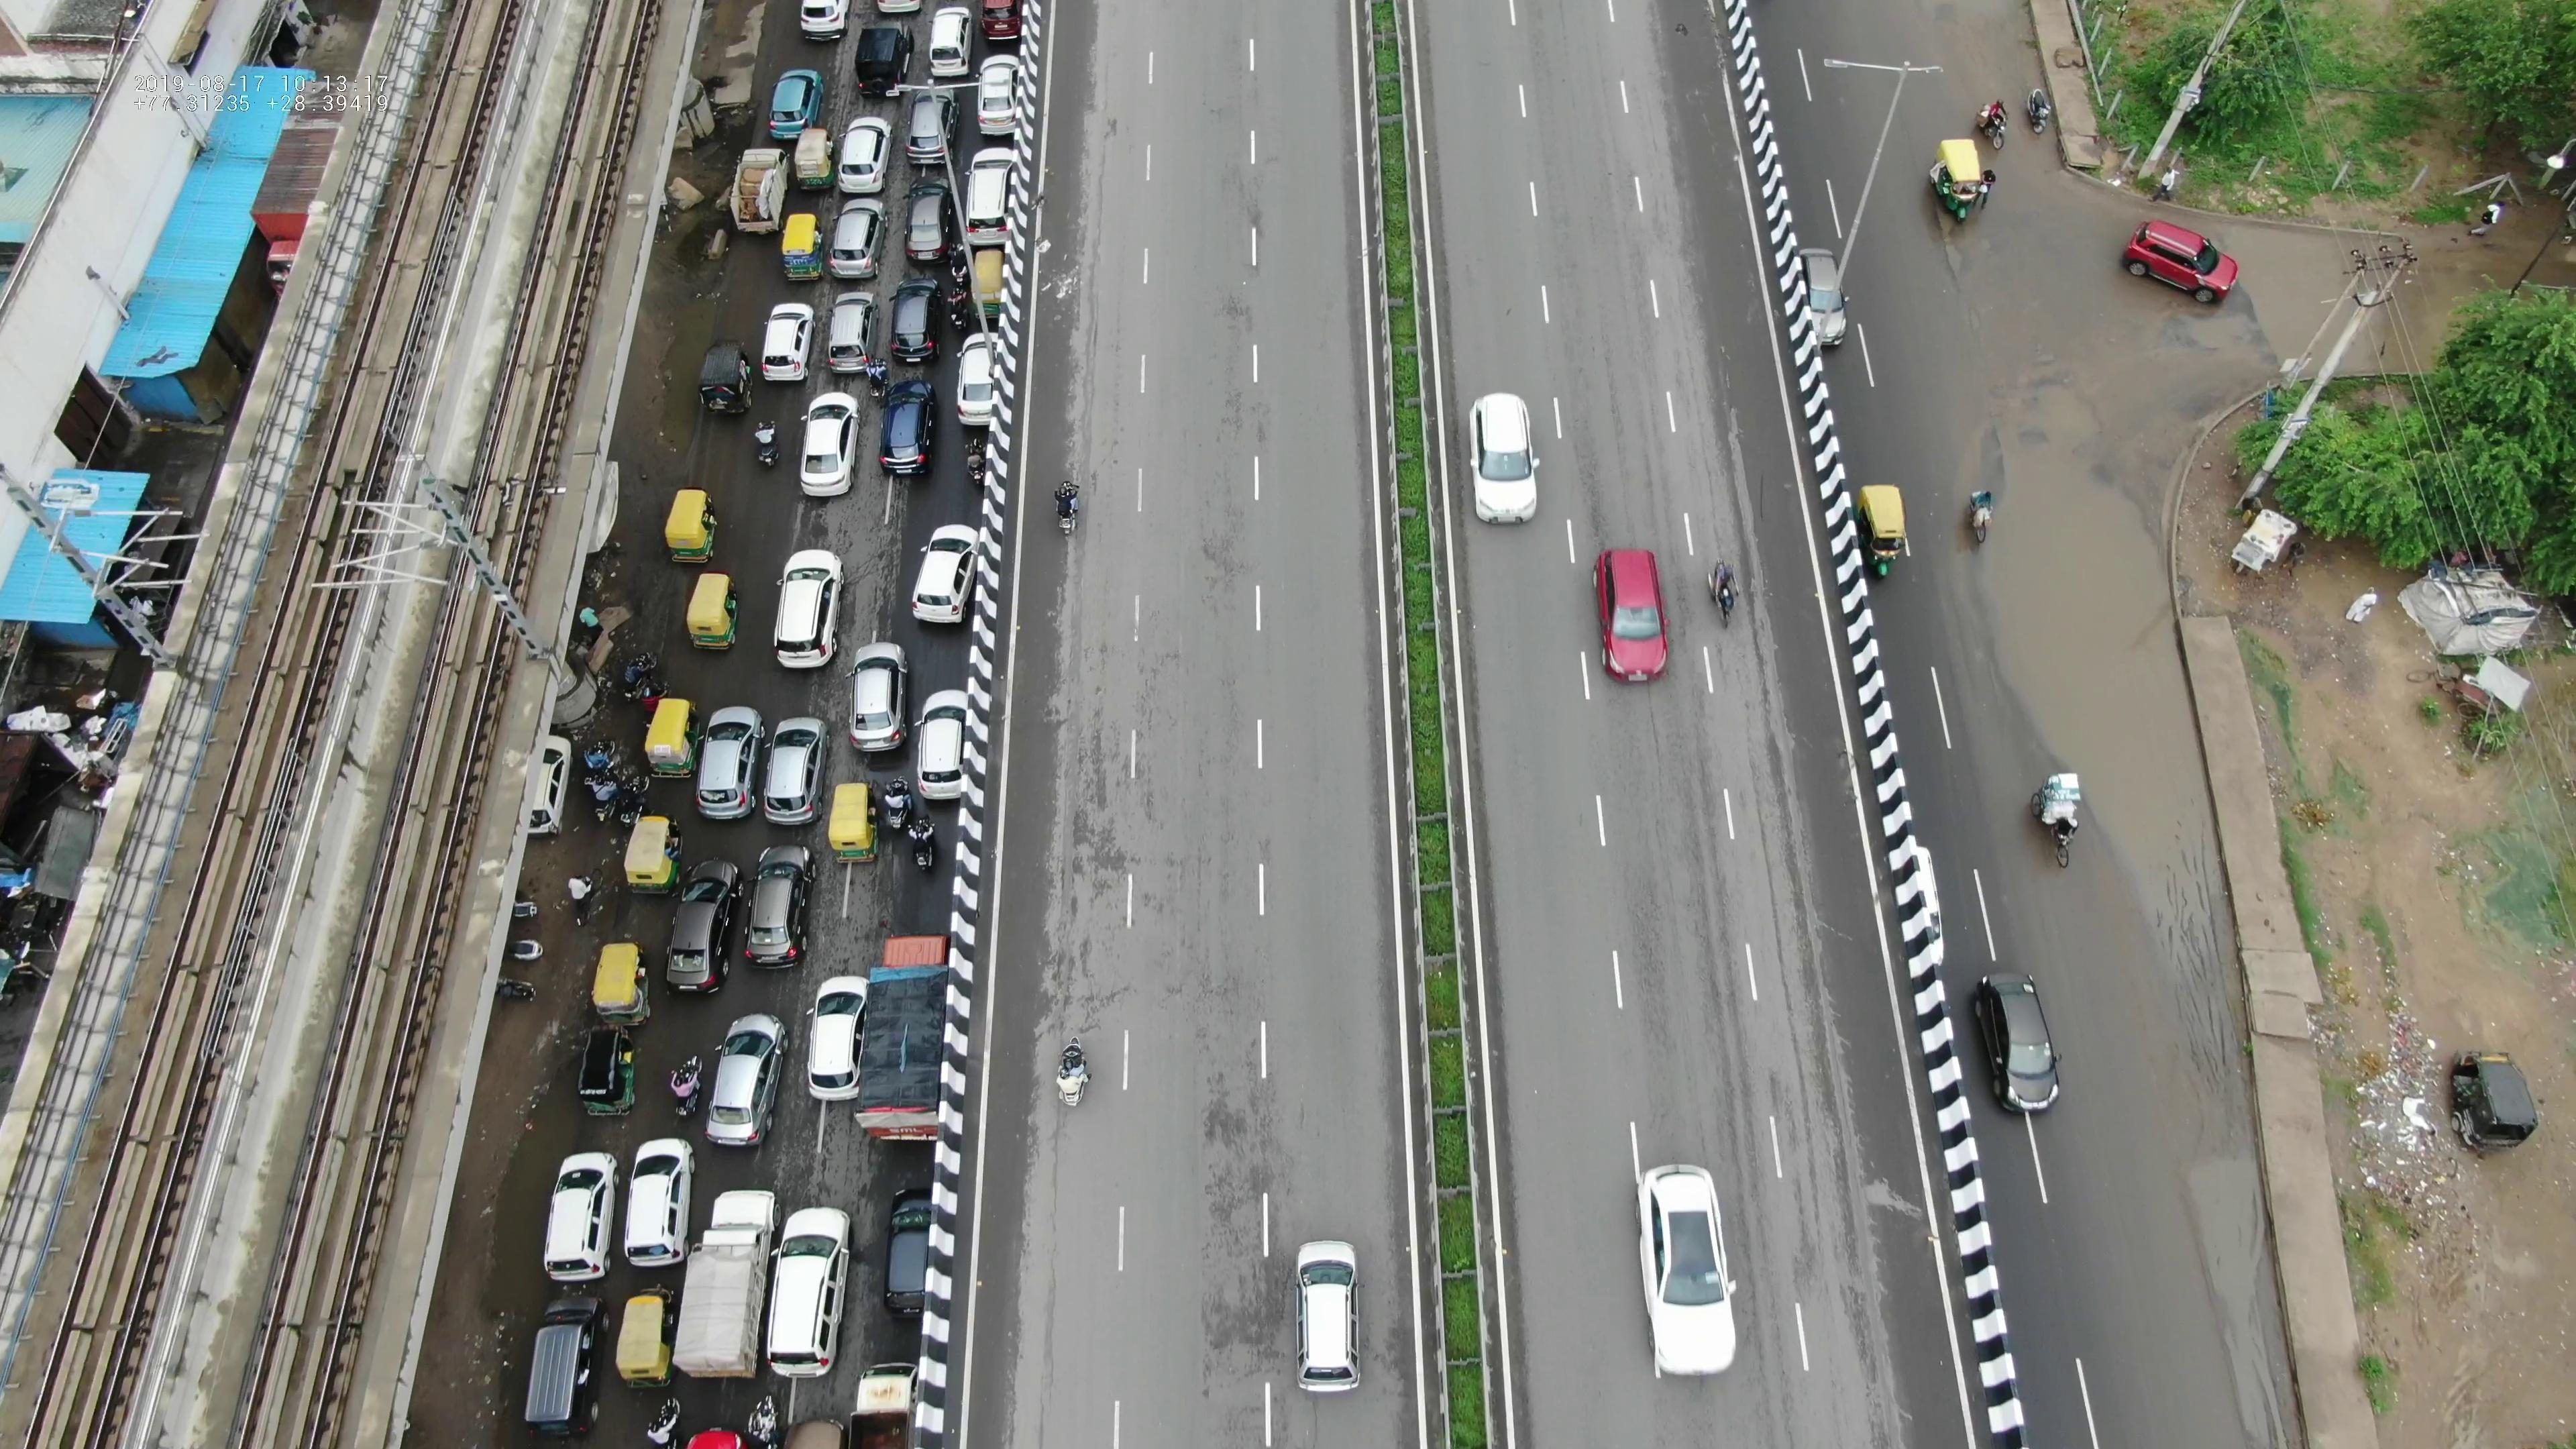Ravelling: (1727, 679, 1845, 1116), (1752, 1115, 1902, 1362), (1070, 143, 1122, 464)
Waterlogging: (1974, 423, 2187, 817)
